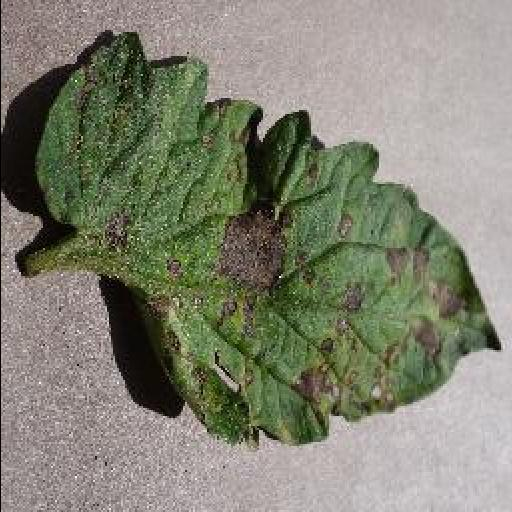disease_tomato: (31, 36, 505, 448)
